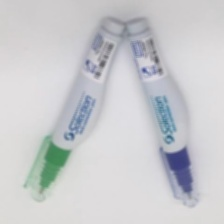correction_fluid: (21, 14, 128, 206), (124, 14, 205, 210)
